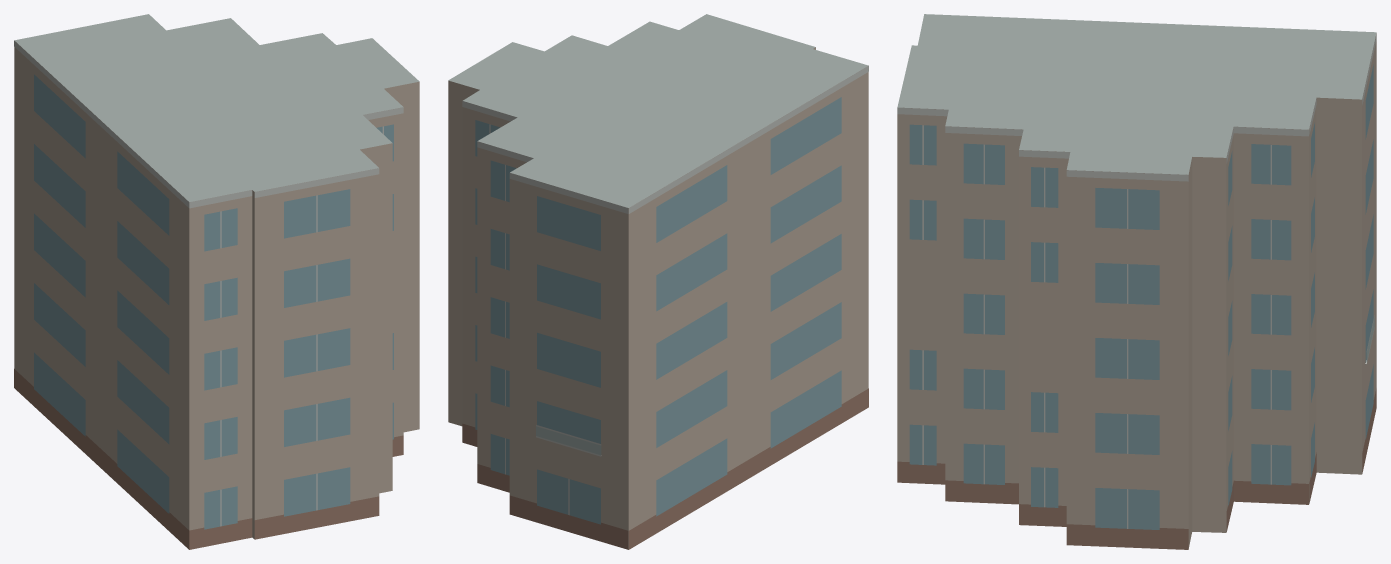
File: survey-upis-32662585.glb
3 views of the same model, side by side, from view 1: azimuth 30°, elevation 25°; view 2: azimuth 150°, elevation 25°; view 3: azimuth 270°, elevation 25° (orthographic). The views are drawn at different scales.
Visible parts, largest first — view 1: survey-upis-32662585.tmp; view 2: survey-upis-32662585.tmp; view 3: survey-upis-32662585.tmp.
Boxes of the visible parts, <box> form: survey-upis-32662585.tmp: <box>14,14,419,549</box>; survey-upis-32662585.tmp: <box>448,14,868,549</box>; survey-upis-32662585.tmp: <box>897,14,1376,549</box>.
Bounding box in the file's own units: 12.56 × 13.65 × 15.82.
